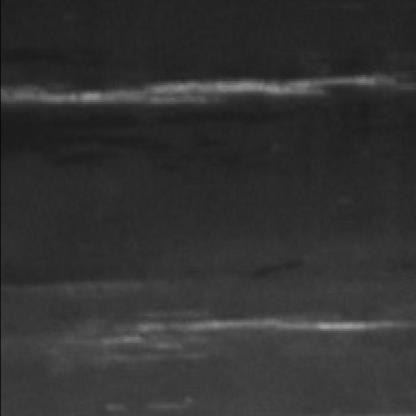scratches: (6, 68, 398, 121), (100, 310, 385, 360)
